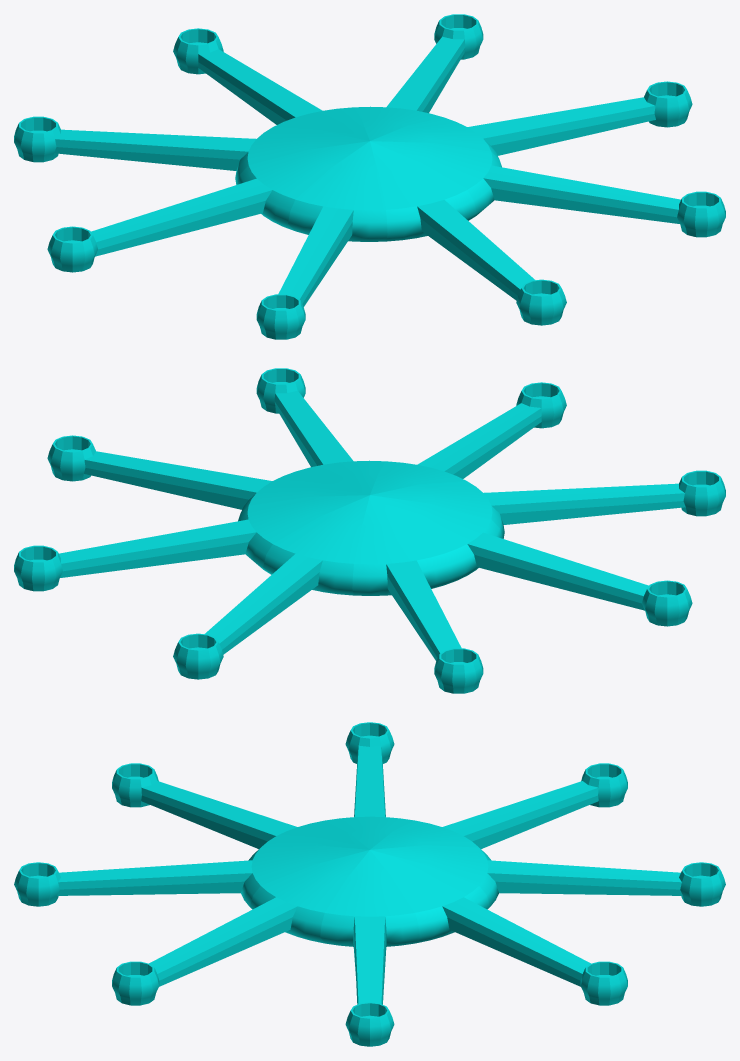
The model's file is body8_20.fbx.
The picture shows the model from 3 angles, top to bottom: view 1: azimuth 30°, elevation 25°; view 2: azimuth 150°, elevation 25°; view 3: azimuth 270°, elevation 25°; orthographic projection. The views are drawn at different scales.
Visible parts, largest first — view 1: pCylinder277; view 2: pCylinder277; view 3: pCylinder277.
Boxes of the visible parts, x1,y1,x2,y2 form: pCylinder277: [14, 14, 725, 339]; pCylinder277: [14, 368, 725, 693]; pCylinder277: [14, 722, 725, 1046].
Bounding box in the file's own units: 36.48 × 2.75 × 36.48.
